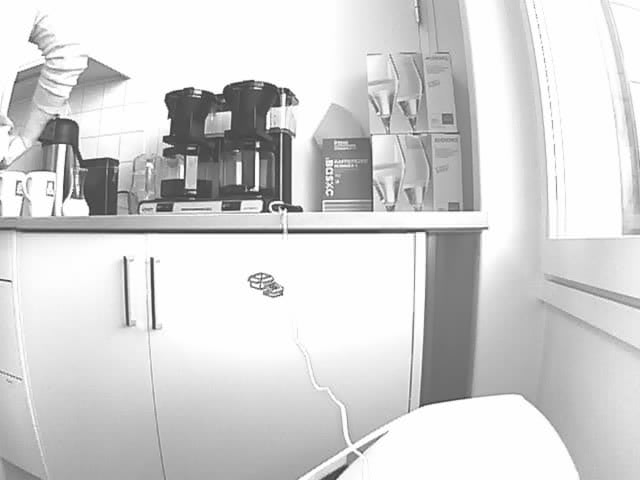not empty coffee: (218, 140, 277, 199)
